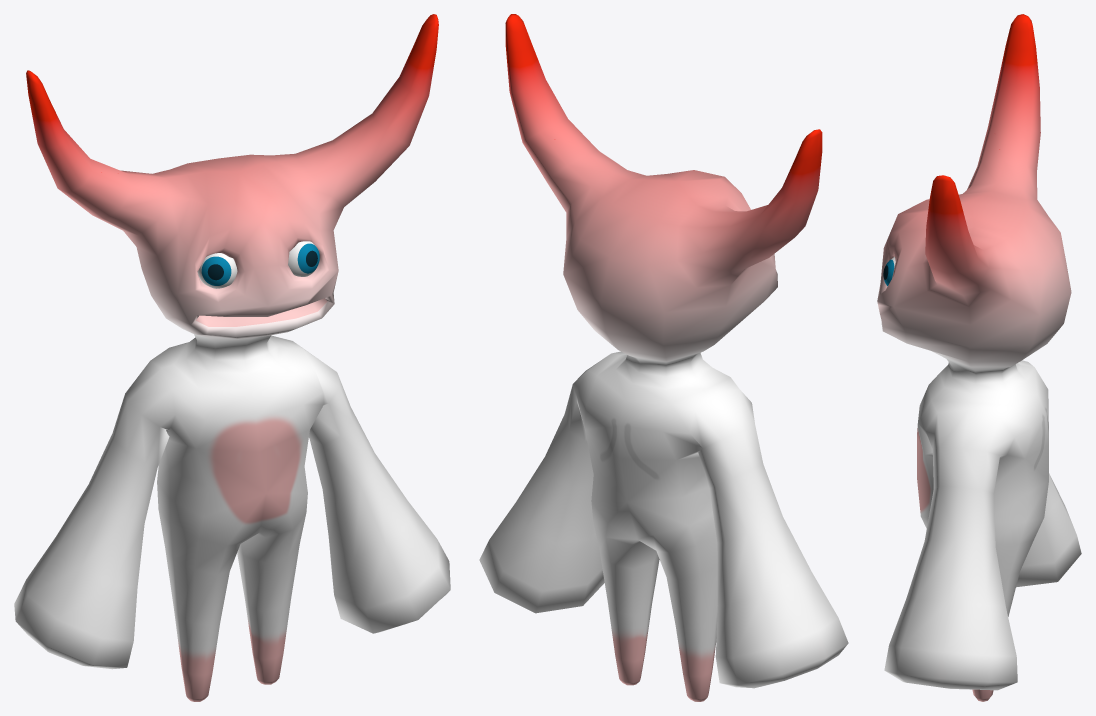
File: frame26.obj
3 views of the same model, side by side, from view 1: azimuth 30°, elevation 25°; view 2: azimuth 150°, elevation 25°; view 3: azimuth 270°, elevation 25° (orthographic). The views are drawn at different scales.
Parts seen in each view (by area): view 1: Body, Right_Eye, Left_Eye; view 2: Body; view 3: Body.
Boxes of the visible parts, x1,y1,x2,y2 form: Body: (14,14,450,701); Right_Eye: (197,253,237,288); Left_Eye: (288,241,319,276); Body: (479,14,848,701); Body: (877,14,1081,701).
Bounding box in the file's own units: 12.48 × 20 × 6.29.
